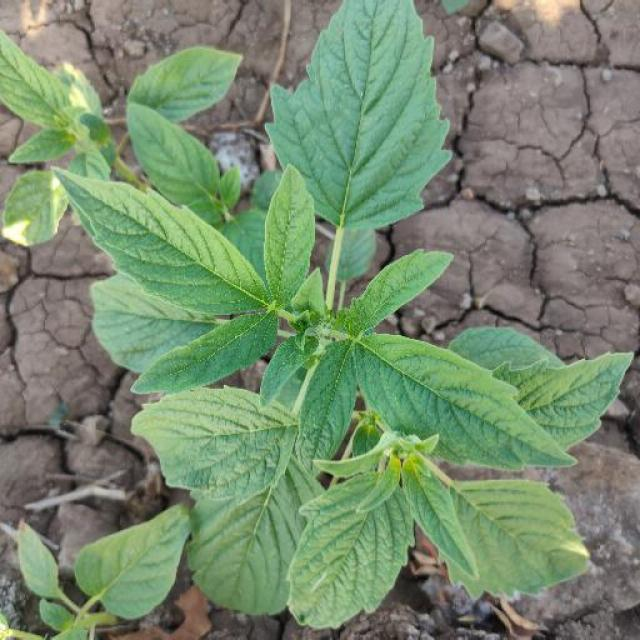crop: (1, 1, 621, 610)
